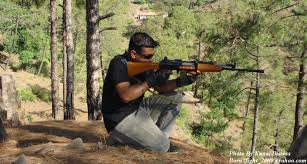rifle: (124, 58, 263, 78)
